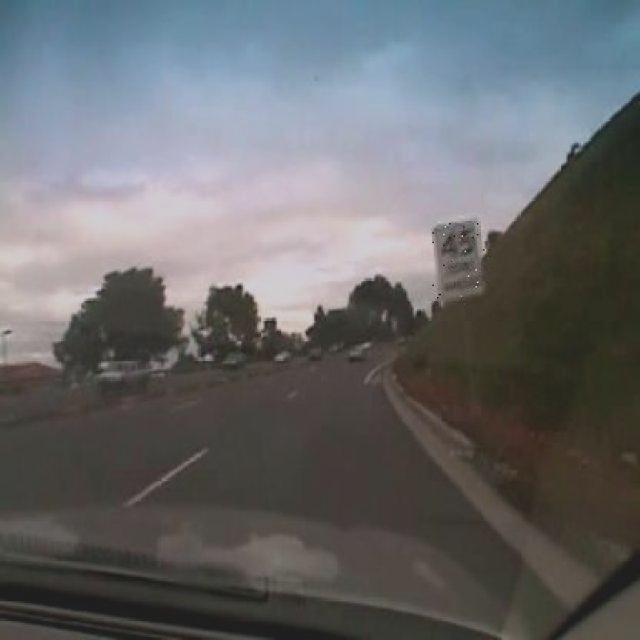zoneAhead45: (432, 217, 486, 306)
